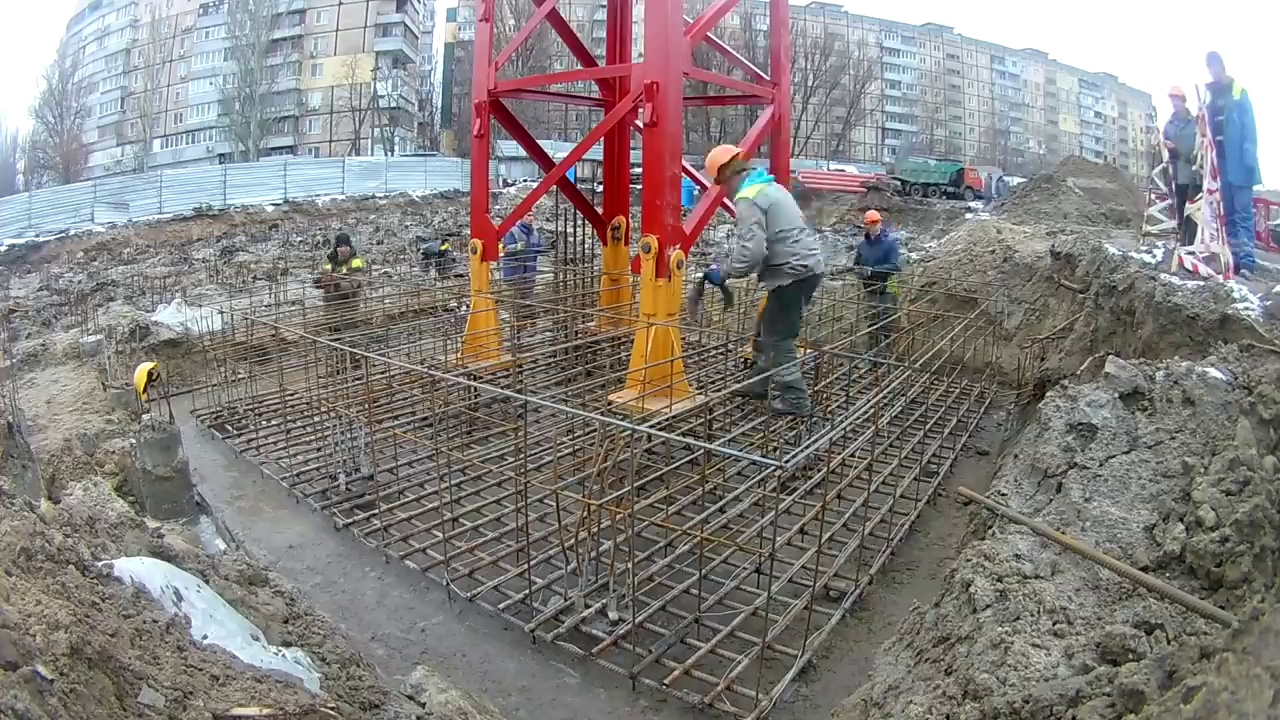helmet: (705, 143, 743, 184), (132, 363, 161, 397), (862, 209, 883, 226), (1167, 86, 1187, 100)
helmet-off: (1206, 52, 1229, 90), (335, 233, 351, 260), (518, 206, 534, 228)
helmet-on: (704, 142, 746, 187), (862, 209, 884, 237), (1167, 86, 1187, 114)
person: (704, 143, 821, 419), (1204, 50, 1260, 282), (314, 232, 366, 380), (1160, 87, 1201, 260), (854, 209, 899, 346), (503, 207, 540, 332)
